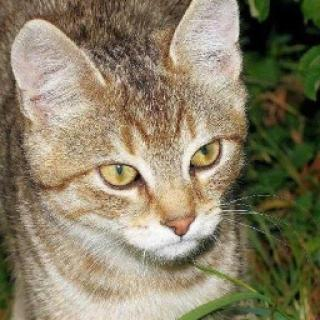cat: (22, 18, 254, 268)
nose: (153, 188, 197, 244)
